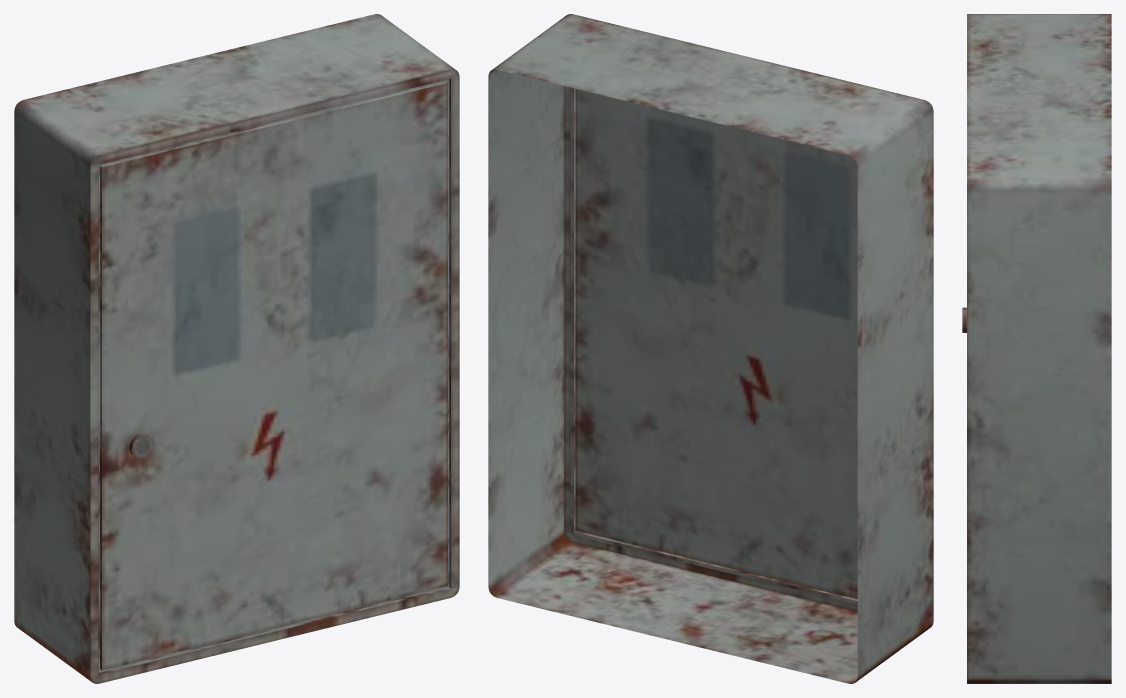
File: elec-cabinet.lod1.glb
The picture shows the model from 3 angles, left to right: view 1: azimuth 30°, elevation 25°; view 2: azimuth 150°, elevation 25°; view 3: azimuth 270°, elevation 25°; orthographic projection. The views are drawn at different scales.
Parts seen in each view (by area): view 1: el_ormar_el_ormar_0; view 2: el_ormar_el_ormar_0; view 3: el_ormar_el_ormar_0.
Boxes of the visible parts, box(x1,y1,x2,y2) form: el_ormar_el_ormar_0: box(14, 14, 459, 683); el_ormar_el_ormar_0: box(488, 14, 933, 683); el_ormar_el_ormar_0: box(962, 14, 1111, 683).
Bounding box in the file's own units: 1.46 × 2 × 0.5379.
Materials: 1 (1 with a texture image).
